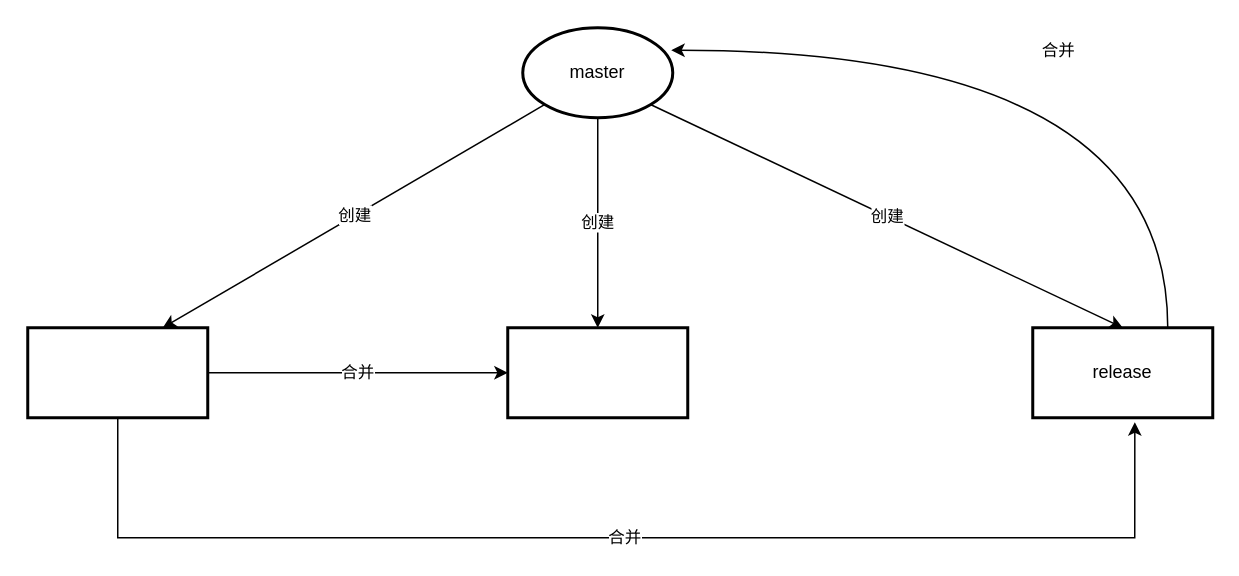
Image size: 1239x576. Some labels were removed from this diagram. The centre of each missing label's shape, as x and y in pixels:
"develop" belongs at point 597,372.
"feature" belongs at point 117,372.
